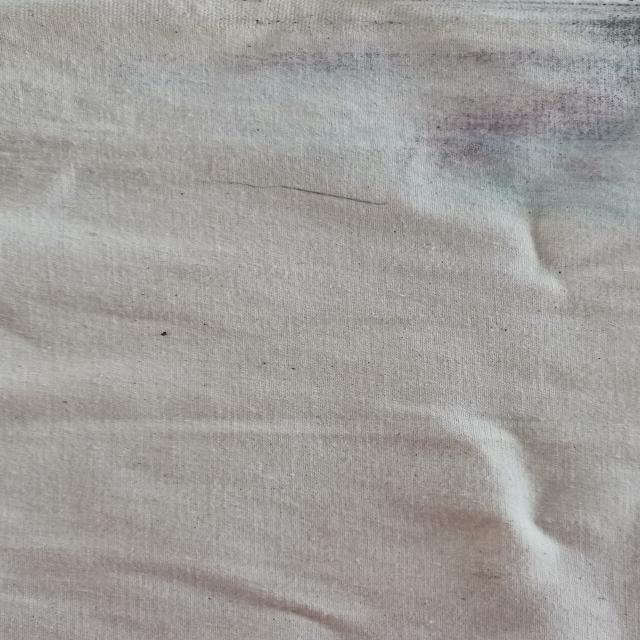taaaches: (48, 0, 640, 222)
